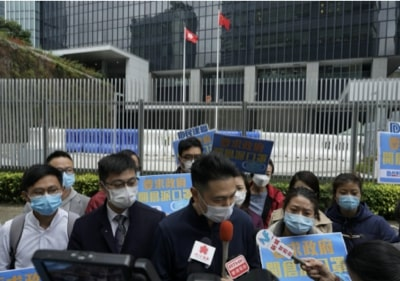Mask: (202, 203, 237, 223), (29, 193, 61, 214), (108, 186, 137, 208), (284, 212, 313, 234)
